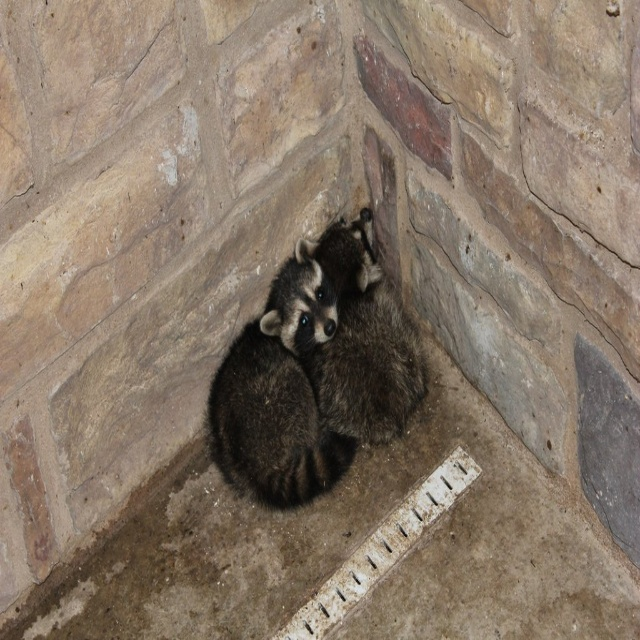Raccoon: (202, 204, 425, 511)
